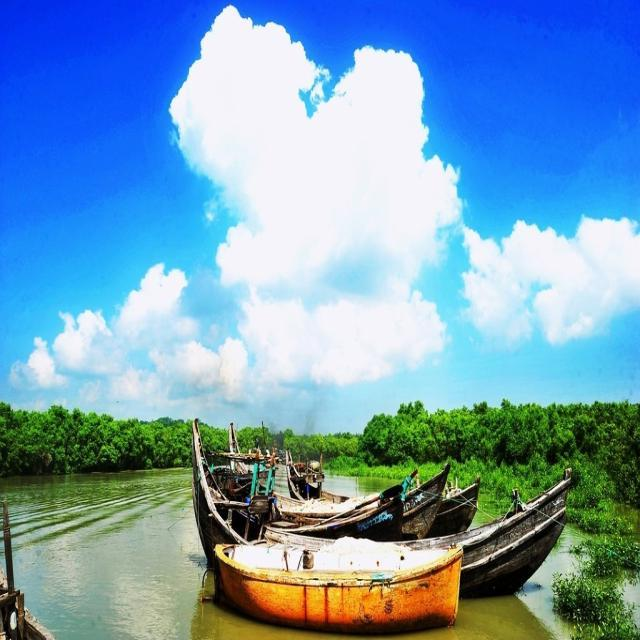boat: (190, 472, 586, 626)
